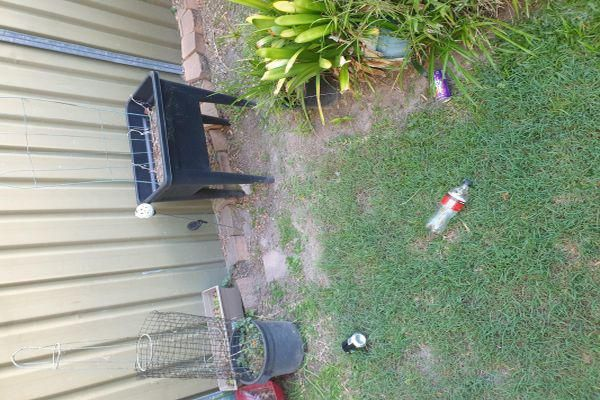Plastic Bottle: (423, 179, 473, 236), (429, 68, 452, 104), (340, 332, 367, 354)
